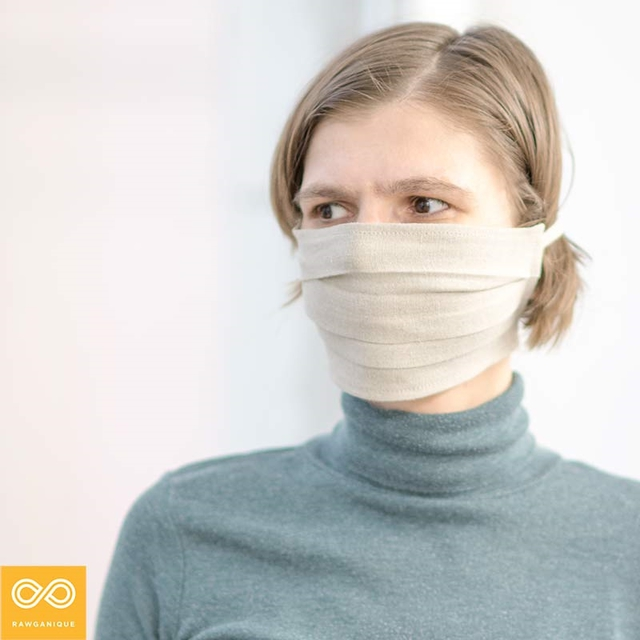mask: (284, 223, 550, 392)
